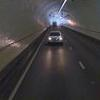Car: (40, 25, 69, 55)
